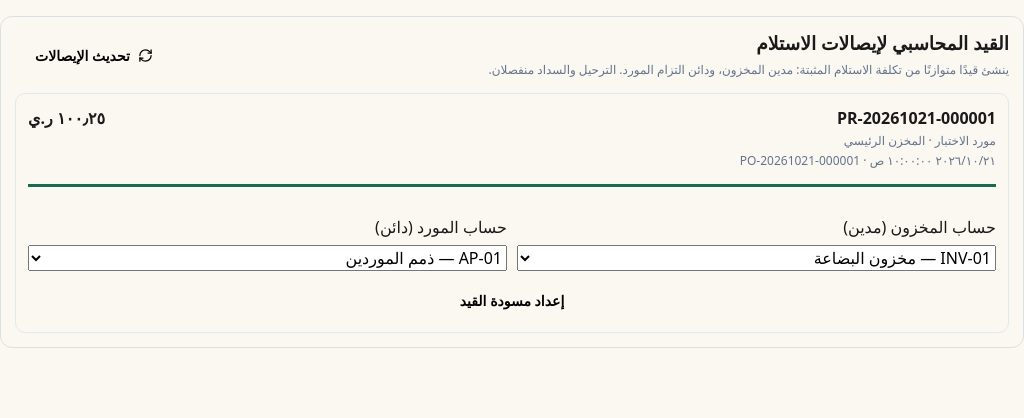
Scenario: purchase receipt accounting workspace › uses the selected accounts and server RPC, then displays the returned draft journal
The image size is (1024, 418).
What coordinates should you click on to do the following:
click the button "إعداد مسودة القيد"
I would click on:
 (512, 301)
Its box is [28,281,996,320].
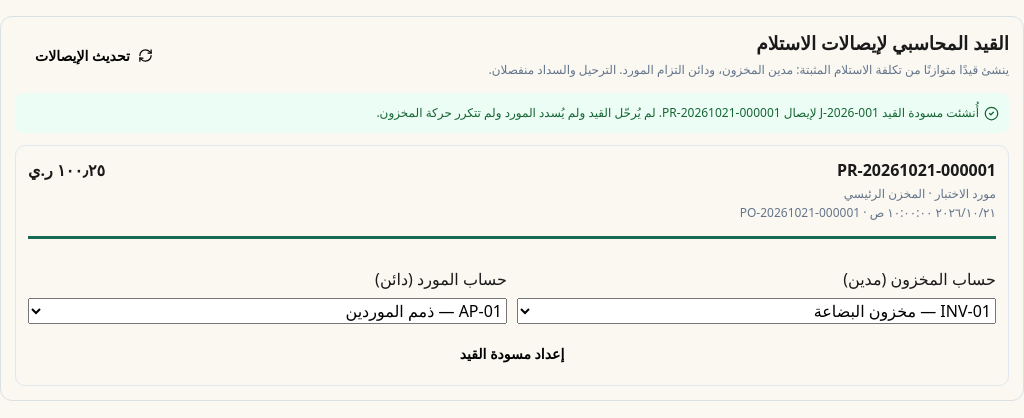
Check: the text "أُنشئت مسودة القيد J-2026-001" is shown, box [376,104,979,121]
